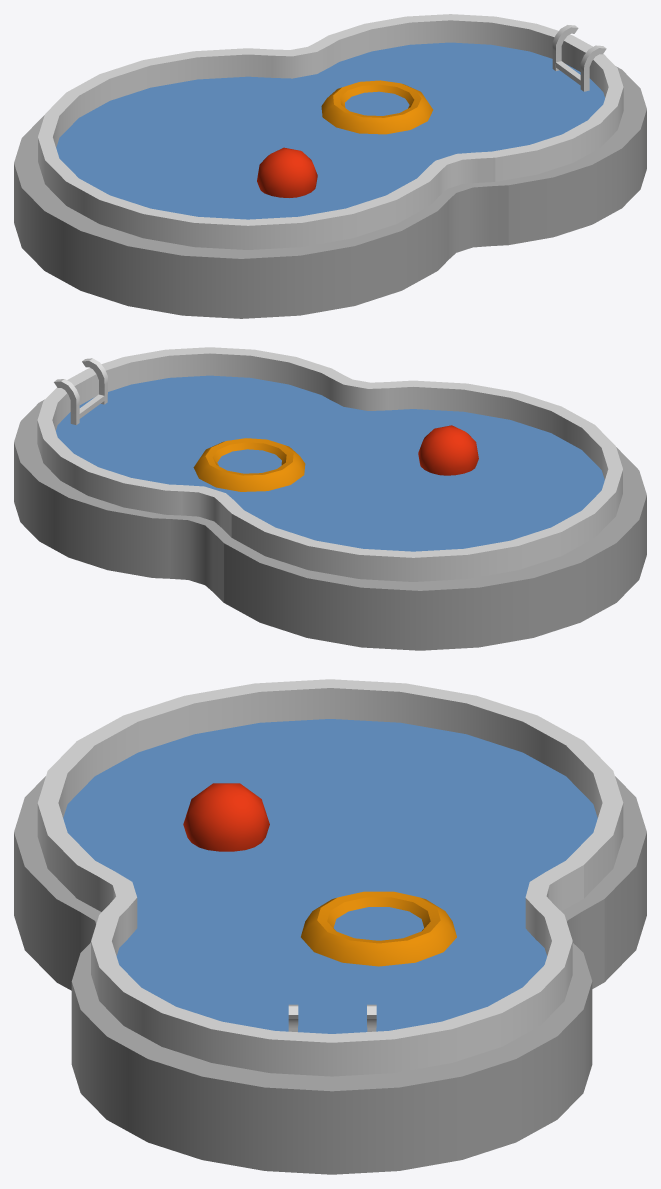
Rendered from pool.glb.
3 renders of one model, top to bottom at view 1: azimuth 30°, elevation 25°; view 2: azimuth 150°, elevation 25°; view 3: azimuth 270°, elevation 25°, orthographic. The views are drawn at different scales.
Parts seen in each view (by area): view 1: pool; view 2: pool; view 3: pool.
Part boxes in pixels (<box>): pool: <box>14,14,646,318</box>; pool: <box>14,347,646,650</box>; pool: <box>14,679,646,1174</box>.
Size of the model in its own units: 3.67 by 0.6195 by 2.5.
